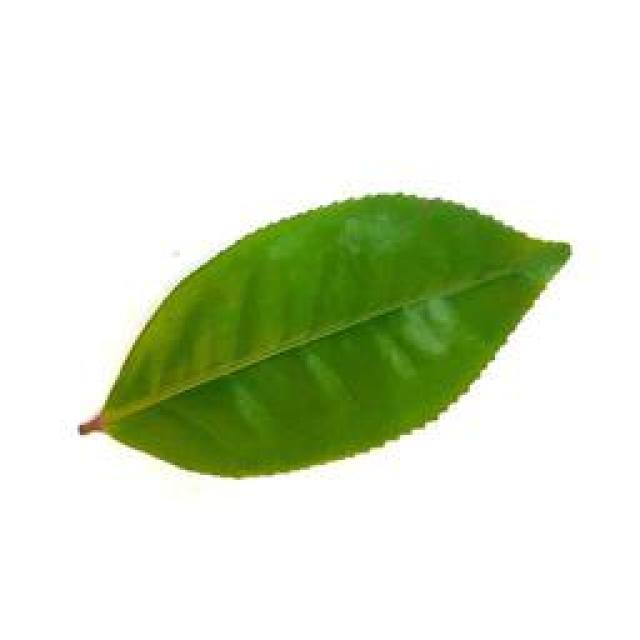Healthy: (75, 193, 578, 478)
